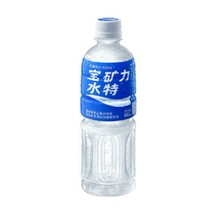POCARI SWEAT: (79, 16, 136, 197)
